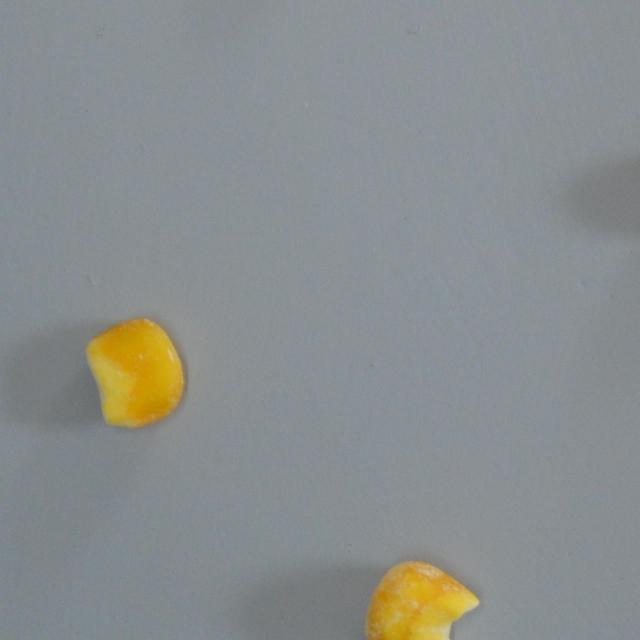no_canjicado: (82, 317, 184, 430)
pelicula: (366, 560, 481, 640)
